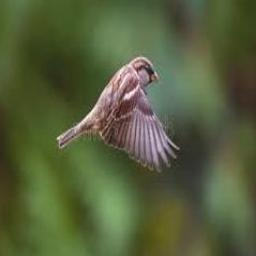Sparrow: (58, 55, 180, 172)
